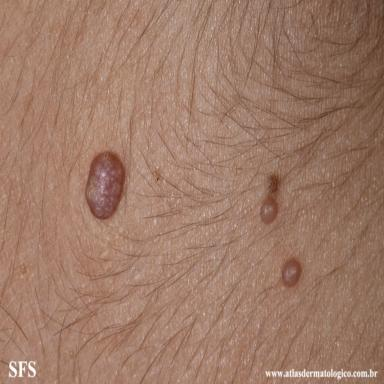Molluscum-Contagiosum: (282, 258, 301, 286), (260, 197, 278, 224)
